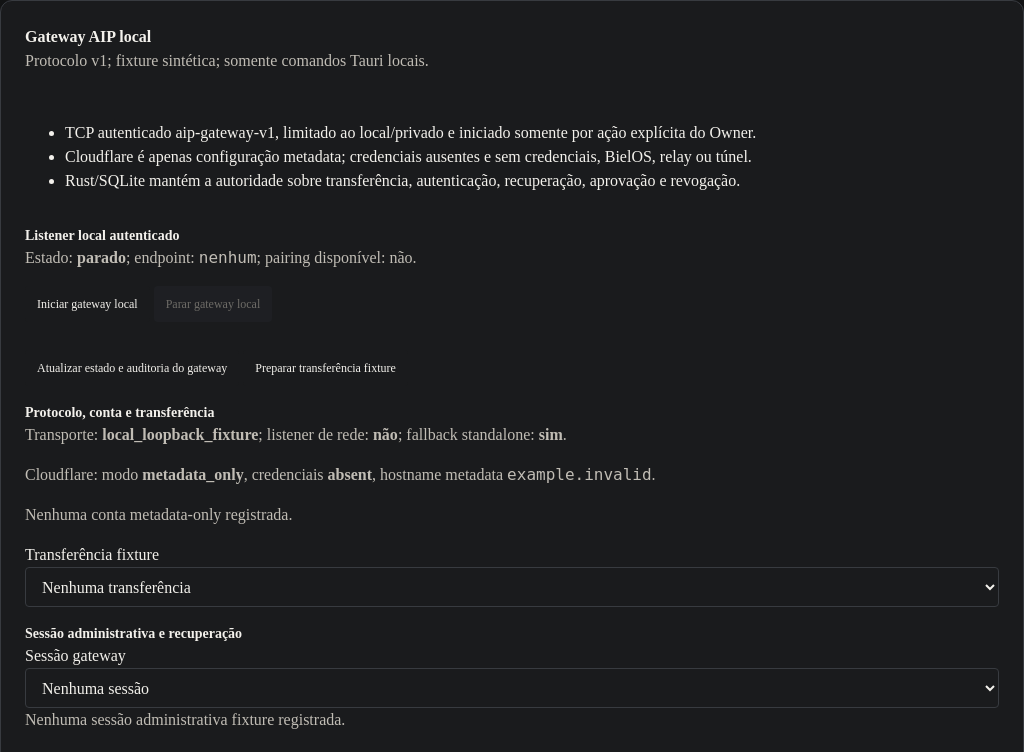
Test case: GatewayControls › delegates transfer preparation to Rust and fails closed in blocked modes
Click the button "Preparar transferência fixture" at x=326, y=368, box [243, 350, 408, 386]
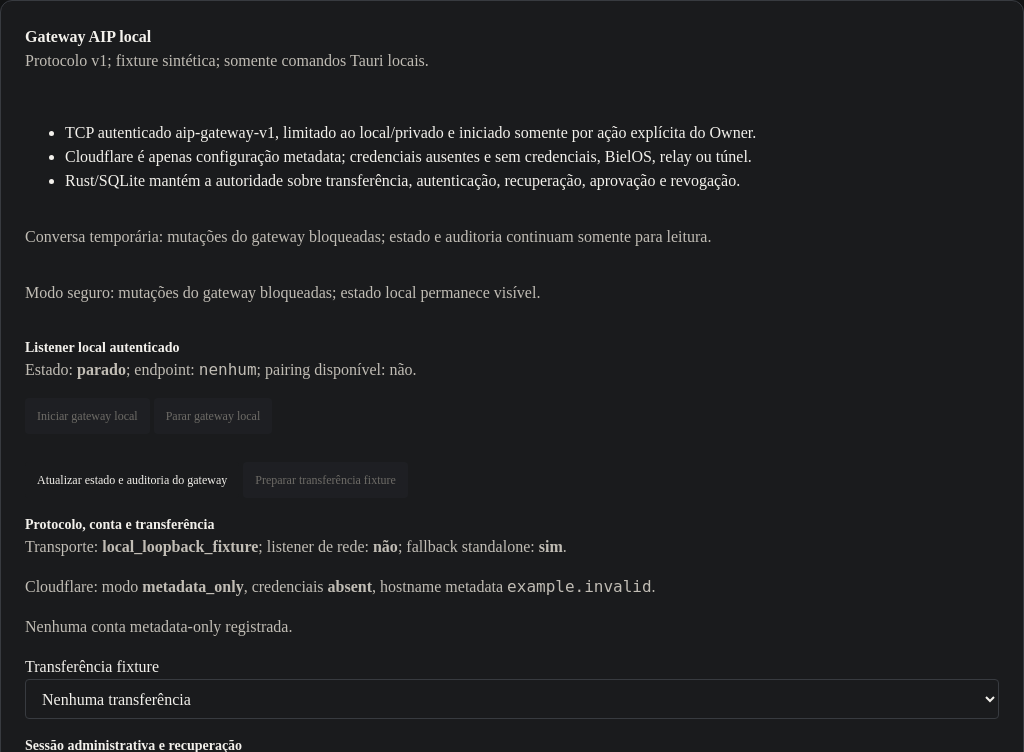
Expected: the button "Preparar transferência fixture" is disabled, [243, 462, 408, 498]
Expected: the text "Conversa temporária: mutações do gateway bloqueadas" is shown, [25, 228, 711, 245]
Expected: the text "Modo seguro: mutações do gateway bloqueadas" is shown, [25, 284, 540, 301]
